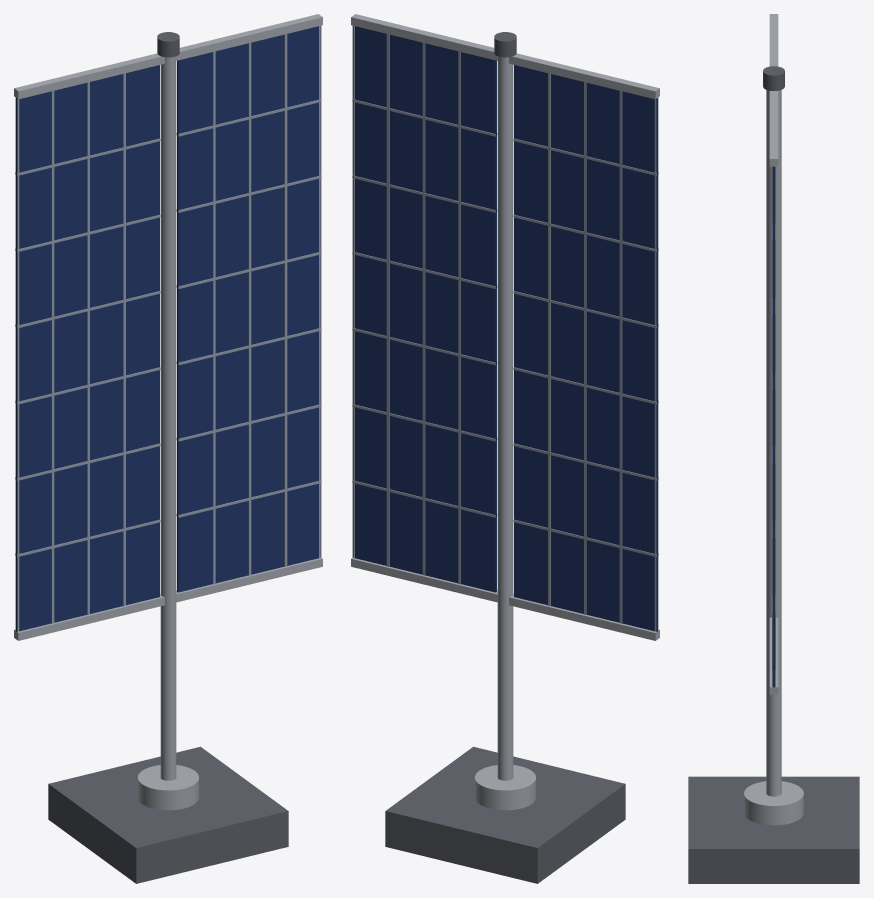
The model's file is solar-array-mast.glb.
The picture shows the model from 3 angles, left to right: view 1: azimuth 30°, elevation 25°; view 2: azimuth 150°, elevation 25°; view 3: azimuth 270°, elevation 25°; orthographic projection. The views are drawn at different scales.
Parts seen in each view (by area): view 1: solar-array-cell-blue, base-base-grey, solar-array-cell-frame, mast-mast-grey, solar-array-mast-grey, base-mast-grey; view 2: solar-array-cell-blue, base-base-grey, solar-array-cell-frame, mast-mast-grey, solar-array-mast-grey, base-mast-grey; view 3: base-base-grey, mast-mast-grey, solar-array-mast-grey, base-mast-grey, solar-array-cell-blue, solar-array-cell-frame, mast-base-grey.
Part boxes in pixels (x1,y1,x2,y2): solar-array-cell-blue: (15,26,321,631); base-base-grey: (48,746,288,883); solar-array-cell-frame: (15,34,321,623); mast-mast-grey: (160,56,176,780); solar-array-mast-grey: (14,14,322,640); base-mast-grey: (137,765,199,810); solar-array-cell-blue: (352,26,658,631); base-base-grey: (385,746,625,883); solar-array-cell-frame: (352,34,658,623); mast-mast-grey: (497,56,513,780); solar-array-mast-grey: (351,14,659,640); base-mast-grey: (474,765,536,810); base-base-grey: (688,776,859,883); mast-mast-grey: (766,90,781,796); solar-array-mast-grey: (769,14,778,694); base-mast-grey: (744,781,803,825); solar-array-cell-blue: (772,166,775,687); solar-array-cell-frame: (772,167,775,670); mast-base-grey: (763,66,784,90).
Bounding box in the file's own units: 4 × 10 × 2.
